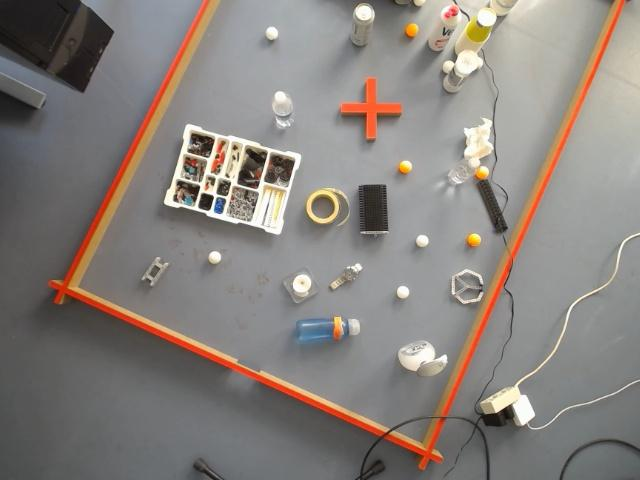orange: (398, 158, 414, 177), (464, 232, 482, 248), (404, 22, 418, 38), (476, 166, 490, 180)
white: (264, 25, 280, 44), (206, 250, 223, 267), (395, 284, 411, 301), (414, 234, 431, 250), (442, 60, 454, 73)
